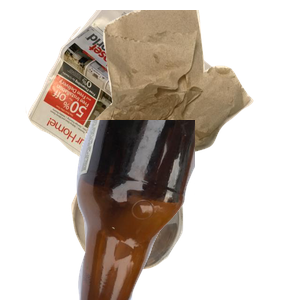glass: (60, 120, 300, 300)
paper: (23, 10, 245, 190)
plastic: (69, 161, 245, 300)
trash: (83, 10, 300, 163)
